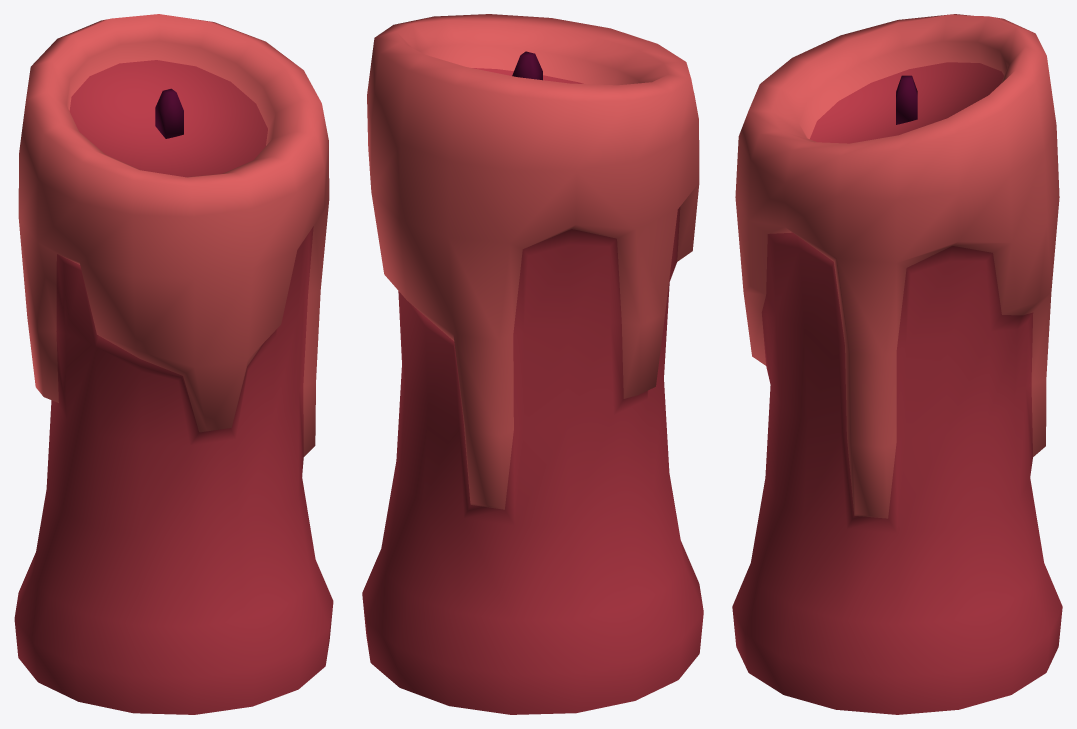
Rendered from Candle_04.fbx.
3 renders of one model, left to right at view 1: azimuth 30°, elevation 25°; view 2: azimuth 150°, elevation 25°; view 3: azimuth 270°, elevation 25°, orthographic. The views are drawn at different scales.
Parts seen in each view (by area): view 1: Candle_04; view 2: Candle_04; view 3: Candle_04.
Boxes of the visible parts, x1,y1,x2,y2 form: Candle_04: [14, 14, 333, 714]; Candle_04: [362, 14, 703, 714]; Candle_04: [732, 14, 1062, 714].
Bounding box in the file's own units: 18.05 × 36.21 × 18.05.
